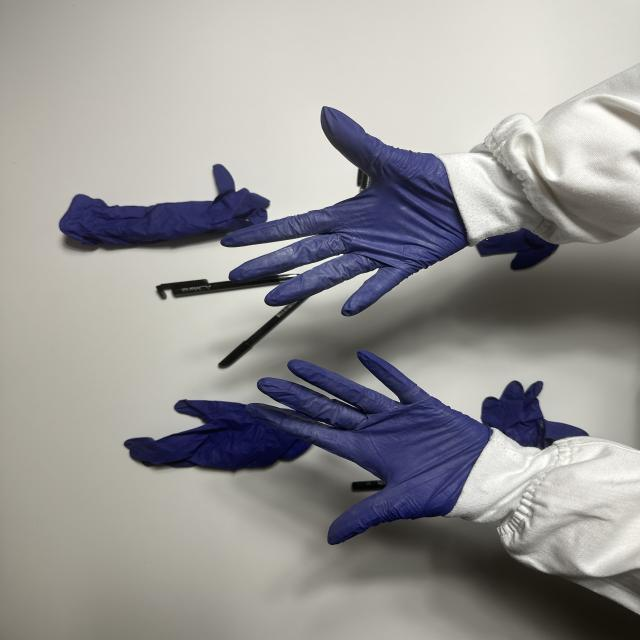gloves_contaminated: (222, 107, 469, 316), (246, 351, 492, 544)
